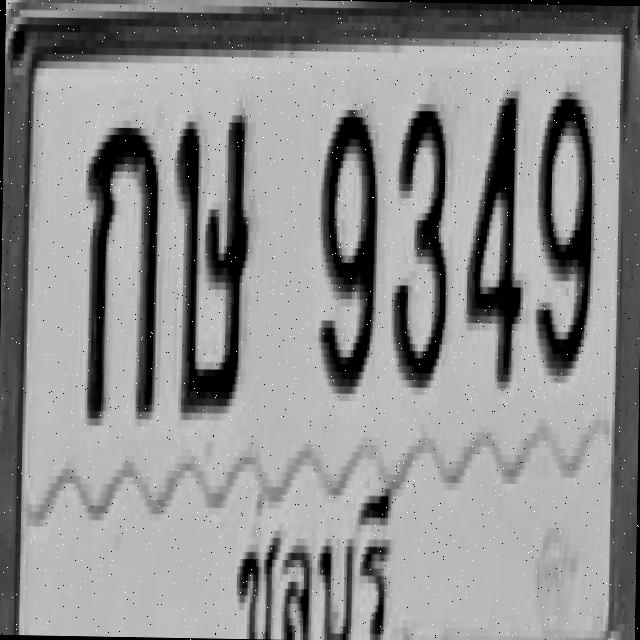10GorGai: (80, 115, 160, 422)
3: (390, 95, 451, 388)
4: (464, 86, 524, 385)
48SorRueSi: (170, 110, 252, 417)
9: (316, 102, 378, 394), (534, 84, 594, 376)
Chonburi: (222, 477, 396, 640)
